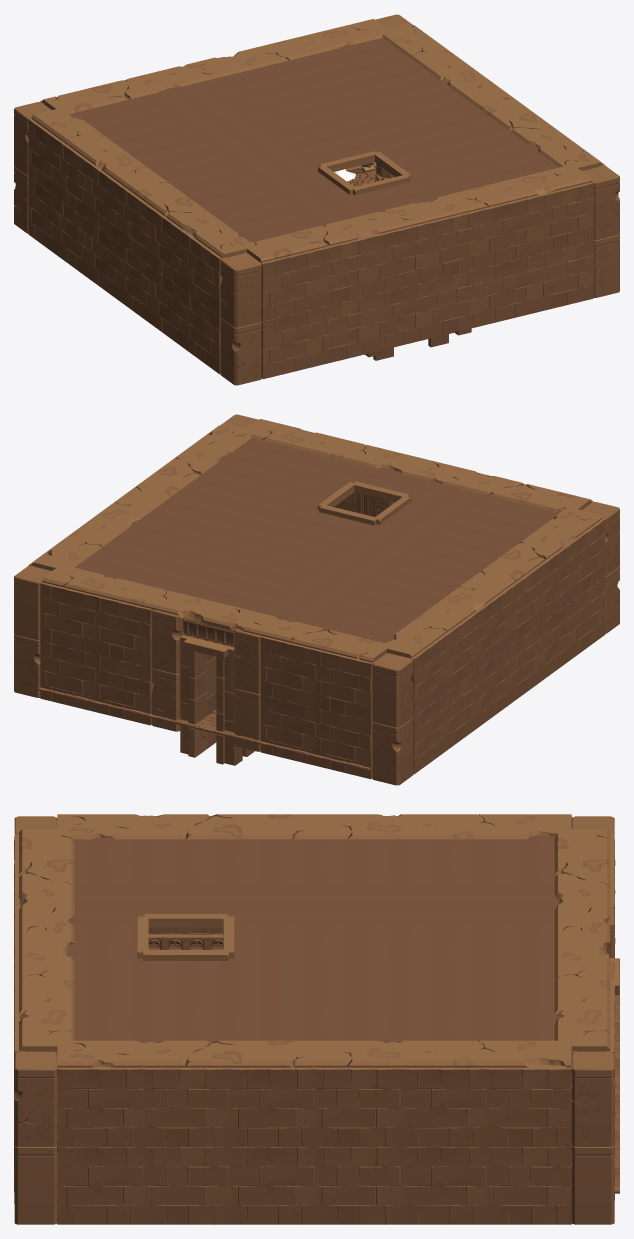
The picture shows the model from 3 angles, top to bottom: view 1: azimuth 30°, elevation 25°; view 2: azimuth 150°, elevation 25°; view 3: azimuth 270°, elevation 25°; orthographic projection. The views are drawn at different scales.
Parts seen in each view (by area): view 1: TFD_Wall_06A_LOD0_2, TFD_Wall_06A_LOD0_4, TFD_Wall_06A_LOD0_12, TFD_Wall_06A_LOD0_17, TFD_Wall_06A_LOD0_18, TFD_Wall_06A_LOD0_7, TFD_Beam_11A_LOD0_1, TFD_Beam_10A_LOD0_3, TFD_Beam_11A_LOD0, TFD_Beam_11A_LOD0_2, TFD_Beam_10A_LOD0_2, TFD_Beam_10A_LOD0_1 (+10 smaller); view 2: TFD_Wall_06A_LOD0_16, TFD_Wall_06A_LOD0_15, TFD_Wall_06A_LOD0_18, TFD_Wall_06A_LOD0_17, TFD_Wall_06A_LOD0_7, TFD_Gate_01A_Module_03_LOD0, TFD_Beam_11A_LOD0, TFD_Beam_10A_LOD0_1, TFD_Beam_10A_LOD0_2, TFD_Beam_11A_LOD0_1, TFD_Beam_11A_LOD0_2, TFD_Beam_10A_LOD0_3 (+15 smaller); view 3: TFD_Wall_06A_LOD0_13, TFD_Wall_06A_LOD0_5, TFD_Wall_06A_LOD0_19, TFD_Beam_10A_LOD0, TFD_Beam_11A_LOD0_3, TFD_Beam_10A_LOD0_2, TFD_Beam_11A_LOD0_2, TFD_Beam_10A_LOD0_1, TFD_Beam_10A_LOD0_3, TFD_Beam_11A_LOD0, TFD_Beam_11A_LOD0_1, TFD_Column_01A_Module_13_LOD0 (+103 smaller).
Boxes of the visible parts, box(x1,y1,x2,y2) form: TFD_Wall_06A_LOD0_2: box(259, 235, 373, 379); TFD_Wall_06A_LOD0_4: box(371, 209, 483, 352); TFD_Wall_06A_LOD0_12: box(482, 182, 593, 325); TFD_Wall_06A_LOD0_17: box(156, 212, 226, 374); TFD_Wall_06A_LOD0_18: box(28, 118, 94, 280); TFD_Wall_06A_LOD0_7: box(92, 165, 158, 327); TFD_Beam_11A_LOD0_1: box(243, 204, 426, 262); TFD_Beam_10A_LOD0_3: box(408, 165, 591, 222); TFD_Beam_11A_LOD0: box(42, 59, 227, 113); TFD_Beam_11A_LOD0_2: box(127, 176, 253, 258); TFD_Beam_10A_LOD0_2: box(31, 107, 159, 187); TFD_Beam_10A_LOD0_1: box(209, 19, 386, 75); TFD_Wall_06A_LOD0_16: box(260, 636, 374, 779); TFD_Wall_06A_LOD0_15: box(40, 582, 153, 725); TFD_Wall_06A_LOD0_18: box(407, 612, 478, 774); TFD_Wall_06A_LOD0_17: box(539, 518, 605, 680); TFD_Wall_06A_LOD0_7: box(475, 565, 541, 727); TFD_Gate_01A_Module_03_LOD0: box(180, 635, 242, 765); TFD_Beam_11A_LOD0: box(207, 604, 391, 662); TFD_Beam_10A_LOD0_1: box(42, 566, 225, 641); TFD_Beam_10A_LOD0_2: box(378, 576, 506, 658); TFD_Beam_11A_LOD0_1: box(406, 459, 591, 512); TFD_Beam_11A_LOD0_2: box(474, 508, 602, 587); TFD_Beam_10A_LOD0_3: box(242, 419, 424, 475); TFD_Wall_06A_LOD0_13: box(400, 1065, 572, 1224); TFD_Wall_06A_LOD0_5: box(57, 1066, 228, 1224); TFD_Wall_06A_LOD0_19: box(229, 1067, 400, 1224); TFD_Beam_10A_LOD0: box(314, 1040, 571, 1067); TFD_Beam_11A_LOD0_3: box(57, 1040, 314, 1067); TFD_Beam_10A_LOD0_2: box(314, 814, 571, 839); TFD_Beam_11A_LOD0_2: box(57, 814, 314, 839); TFD_Beam_10A_LOD0_1: box(554, 937, 610, 1051); TFD_Beam_10A_LOD0_3: box(19, 937, 74, 1051); TFD_Beam_11A_LOD0: box(554, 829, 610, 940); TFD_Beam_11A_LOD0_1: box(19, 829, 74, 940); TFD_Column_01A_Module_13_LOD0: box(14, 1051, 57, 1146).
Size of what is drawn, in the model's own units: 28.05 by 10.14 by 28.28.
Materials: 3 (1 with a texture image).
